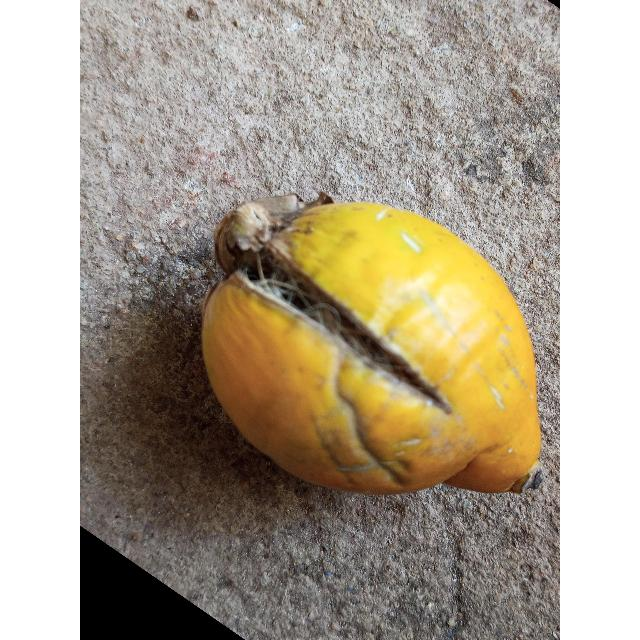damaged: (201, 196, 542, 497)
